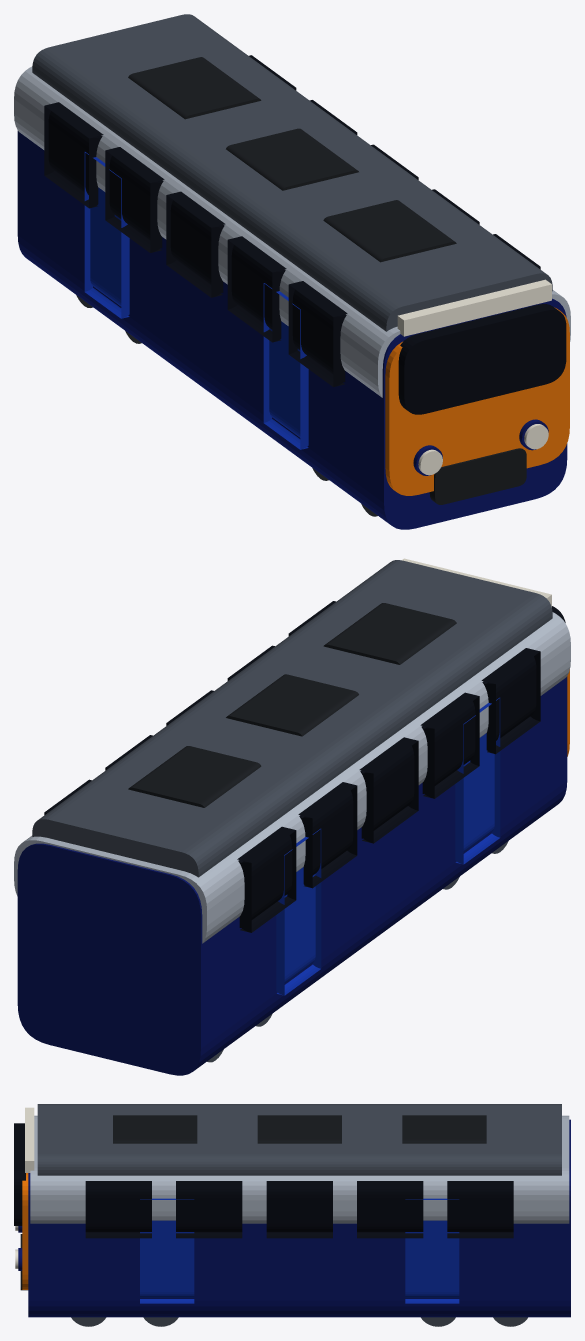
File: train.obj
The picture shows the model from 3 angles, top to bottom: view 1: azimuth 30°, elevation 25°; view 2: azimuth 150°, elevation 25°; view 3: azimuth 270°, elevation 25°; orthographic projection. The views are drawn at different scales.
Visible parts, largest first — view 1: roof, body_lower, windshield, cab_face, body_upper, roof_vent_2, roof_vent_1, roof_vent_3, door_lb, door_la, window_l2, window_l4 (+5 smaller); view 2: body_lower, roof, body_upper, roof_vent_1, roof_vent_3, roof_vent_2, door_la, door_lb, window_l2, window_l0, window_l3, window_l1 (+1 smaller); view 3: body_lower, roof, body_upper, door_ra, door_rb, window_r2, window_r0, window_r4, window_r1, window_r3, roof_vent_1, roof_vent_2 (+5 smaller).
Boxes of the visible parts, x1,y1,x2,y2 form: roof: (32,14,552,331); body_lower: (17,131,567,529); windshield: (398,304,566,414); cab_face: (385,307,569,495); body_upper: (14,66,570,397); roof_vent_2: (226,128,358,190); roof_vent_1: (128,57,261,119); roof_vent_3: (323,200,456,262); door_lb: (263,283,308,449); door_la: (84,152,129,318); window_l2: (166,191,225,297); window_l4: (288,281,347,386); body_lower: (17,676,567,1075); roof: (32,560,552,877); body_upper: (14,612,570,943); roof_vent_1: (128,746,261,807); roof_vent_3: (323,603,456,664); roof_vent_2: (226,674,358,736); door_la: (276,828,321,995); door_lb: (455,697,500,864); window_l2: (359,737,418,843); window_l0: (237,826,296,932); window_l3: (420,692,479,798); window_l1: (298,782,357,888); body_lower: (28,1119,570,1317); roof: (37,1104,561,1175); body_upper: (30,1115,569,1223); door_ra: (405,1198,459,1303); door_rb: (140,1198,194,1303); window_r2: (266,1181,332,1238); window_r0: (447,1181,513,1238); window_r4: (85,1181,151,1238); window_r1: (357,1181,423,1238); window_r3: (176,1181,242,1238); roof_vent_1: (402,1115,486,1143); roof_vent_2: (257,1115,341,1143).
Bounding box in the file's own units: 2.94 × 3.21 × 9.24.
